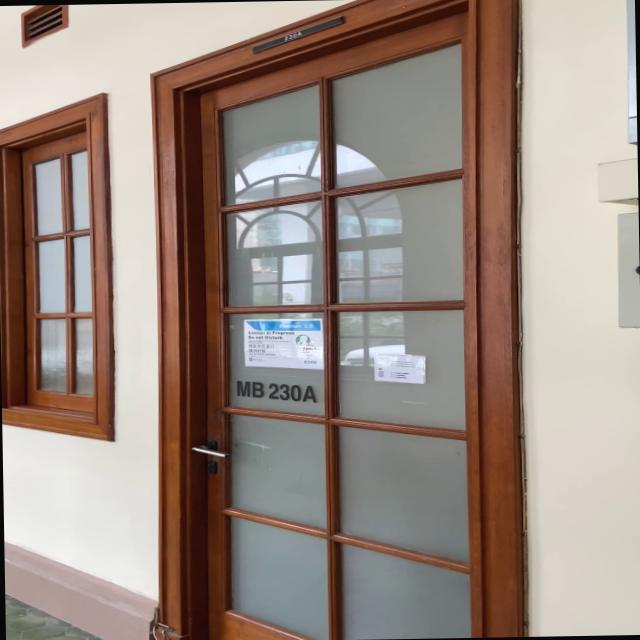room230A: (250, 16, 346, 54)
room230AWindow: (233, 376, 319, 406)
